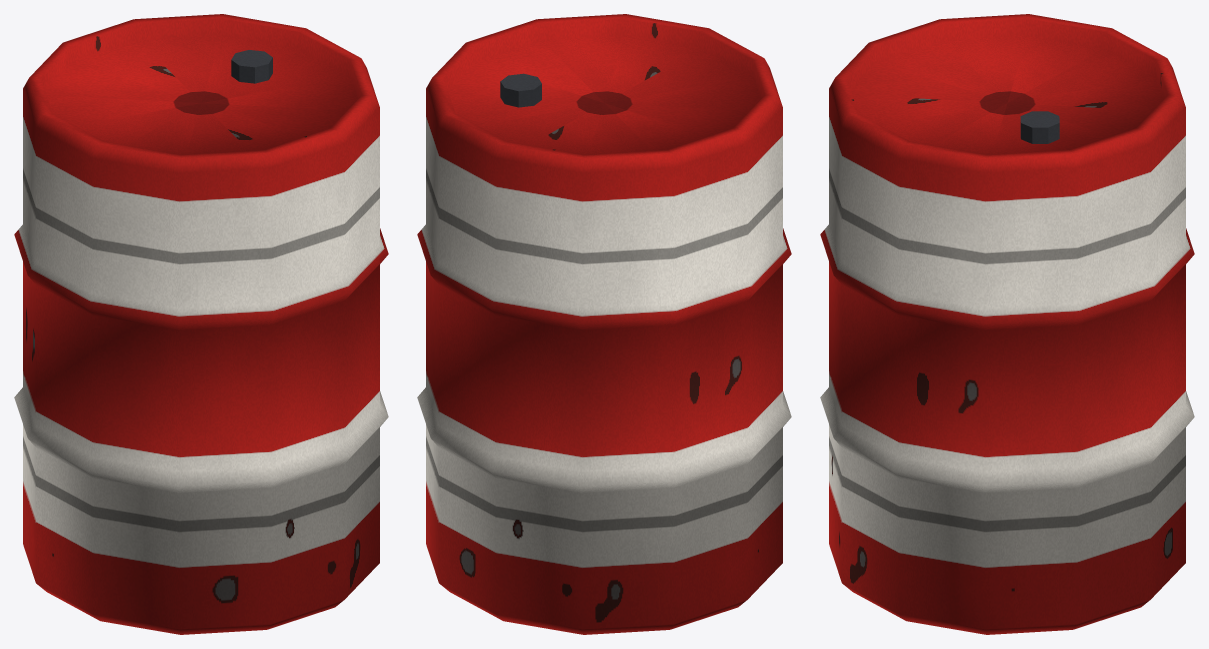
The model's file is Prop_Barrel.fbx.
3 views of the same model, side by side, from view 1: azimuth 30°, elevation 25°; view 2: azimuth 150°, elevation 25°; view 3: azimuth 270°, elevation 25° (orthographic).
Visible parts, largest first — view 1: Prop_Barrel; view 2: Prop_Barrel; view 3: Prop_Barrel.
Part boxes in pixels (x1=…): Prop_Barrel: x1=14, y1=14, x2=388, y2=634; Prop_Barrel: x1=417, y1=14, x2=791, y2=634; Prop_Barrel: x1=820, y1=14, x2=1194, y2=634.
Size of the model in its own units: 0.6252 by 0.88 by 0.6252.
Materials: 2 (2 with a texture image).
